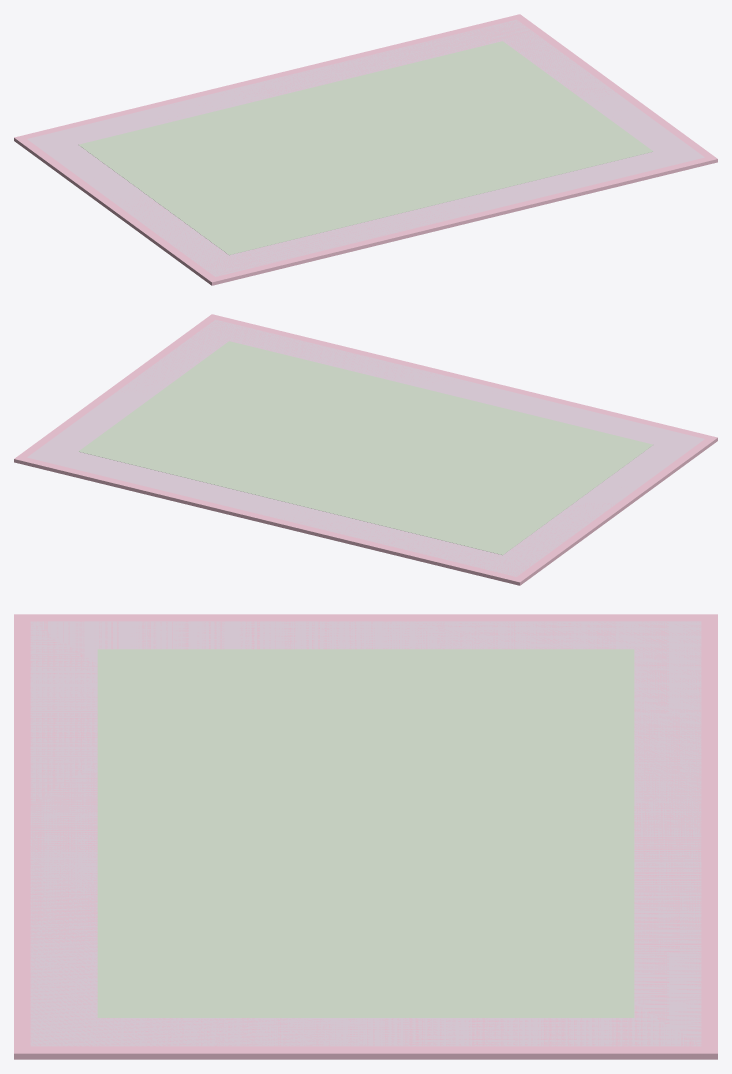
Rendered from carpet.glb.
The picture shows the model from 3 angles, top to bottom: view 1: azimuth 30°, elevation 25°; view 2: azimuth 150°, elevation 25°; view 3: azimuth 270°, elevation 25°; orthographic projection. The views are drawn at different scales.
Visible parts, largest first — view 1: Carpet; view 2: Carpet; view 3: Carpet.
Part boxes in pixels (x1,y1,x2,y2): Carpet: (14,14,717,285); Carpet: (14,314,717,585); Carpet: (14,614,717,1059).
Bounding box in the file's own units: 3.1 × 0.031 × 2.1.
